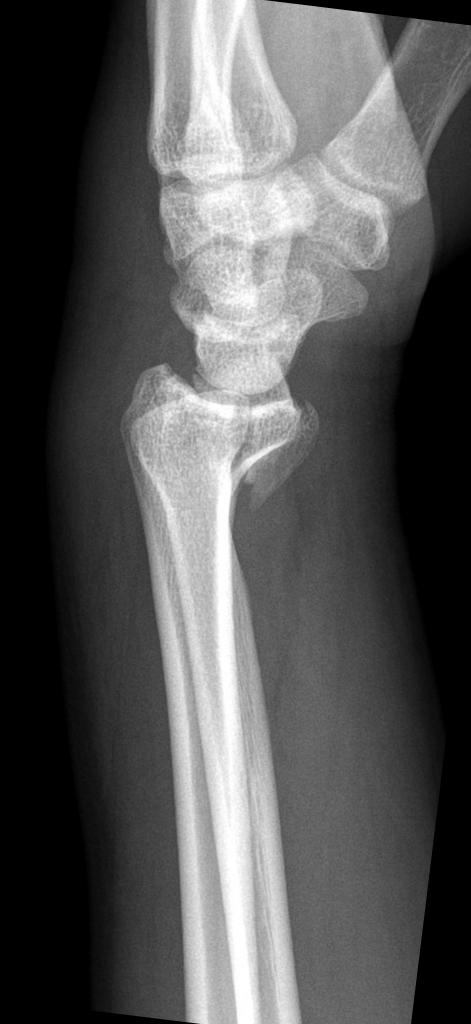line: (224, 412, 266, 508)
